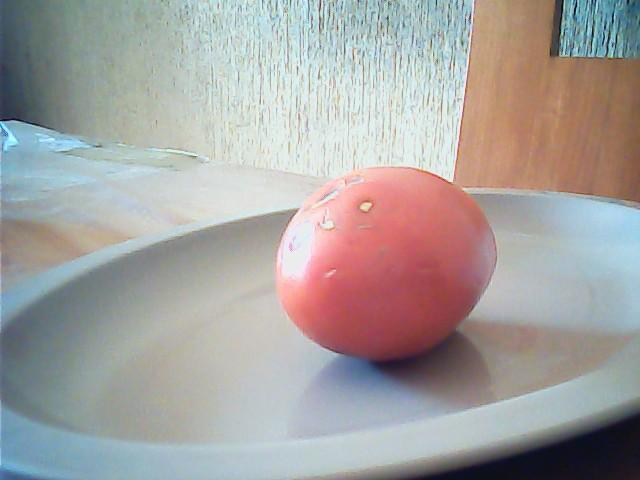defectuoso: (272, 166, 499, 364)
